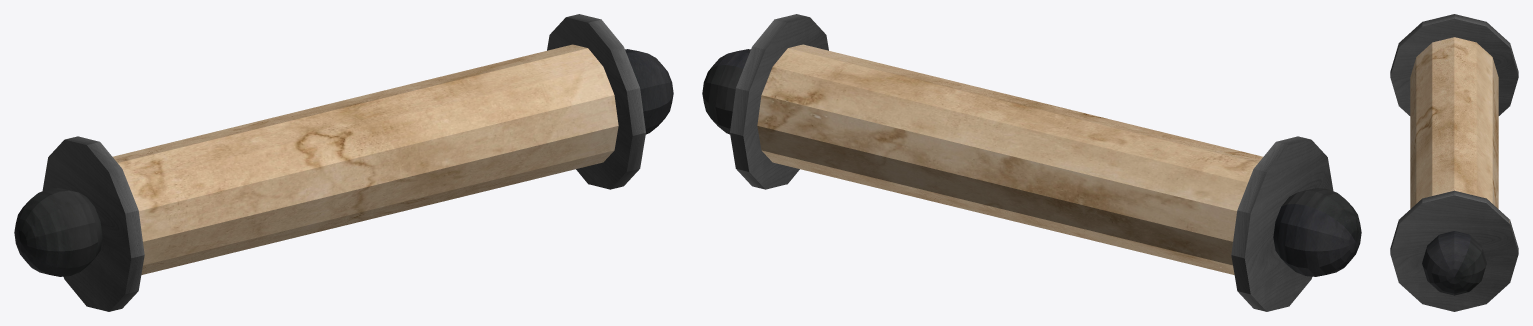
File: Scroll.fbx
3 views of the same model, side by side, from view 1: azimuth 30°, elevation 25°; view 2: azimuth 150°, elevation 25°; view 3: azimuth 270°, elevation 25° (orthographic). The views are drawn at different scales.
Parts seen in each view (by area): view 1: polySurface25; view 2: polySurface25; view 3: polySurface25.
Part boxes in pixels (<box>): polySurface25: <box>14,14,673,311</box>; polySurface25: <box>702,14,1361,311</box>; polySurface25: <box>1390,14,1518,311</box>.
Size of the model in its own units: 2.78 by 0.6625 by 0.6625.
